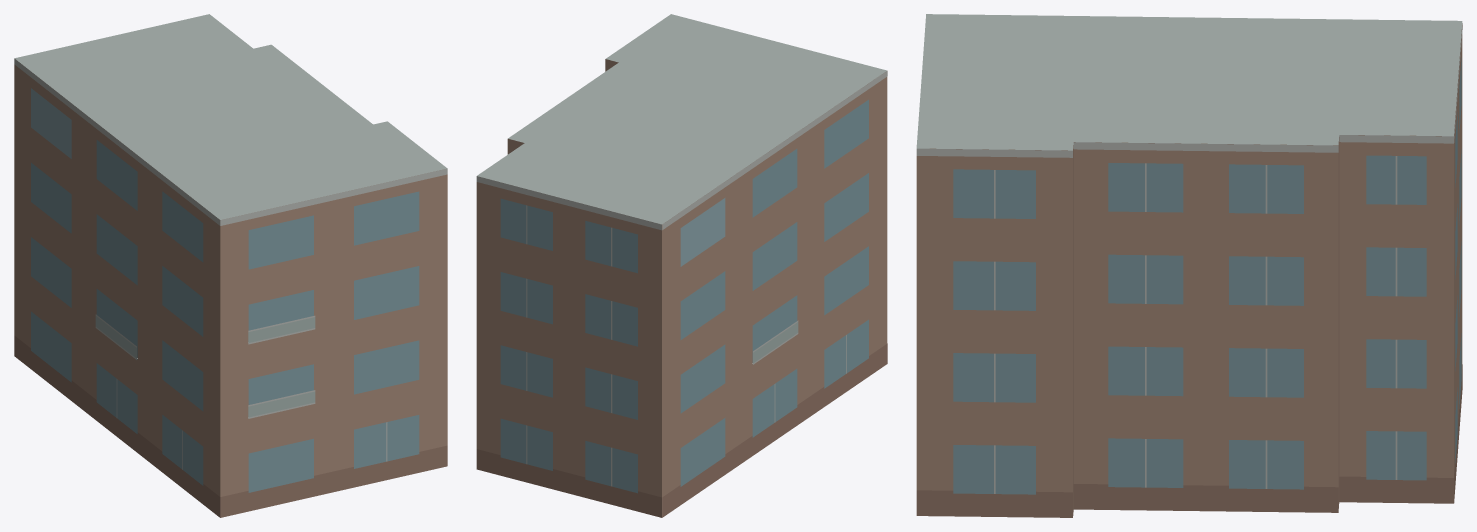
Rendered from residential-bac134ac-90c8-4e16-9855-2597da22224b.glb.
The picture shows the model from 3 angles, left to right: view 1: azimuth 30°, elevation 25°; view 2: azimuth 150°, elevation 25°; view 3: azimuth 270°, elevation 25°; orthographic projection. The views are drawn at different scales.
Visible parts, largest first — view 1: residential-bac134ac-90c8-4e16-9855-2597da22224b.tmp; view 2: residential-bac134ac-90c8-4e16-9855-2597da22224b.tmp; view 3: residential-bac134ac-90c8-4e16-9855-2597da22224b.tmp.
Boxes of the visible parts, left/top/right/bottom form: residential-bac134ac-90c8-4e16-9855-2597da22224b.tmp: left=14, top=14, right=447, bottom=517; residential-bac134ac-90c8-4e16-9855-2597da22224b.tmp: left=476, top=14, right=887, bottom=517; residential-bac134ac-90c8-4e16-9855-2597da22224b.tmp: left=916, top=14, right=1462, bottom=517.
Size of the model in its own units: 9.73 by 12.2 by 16.44.
